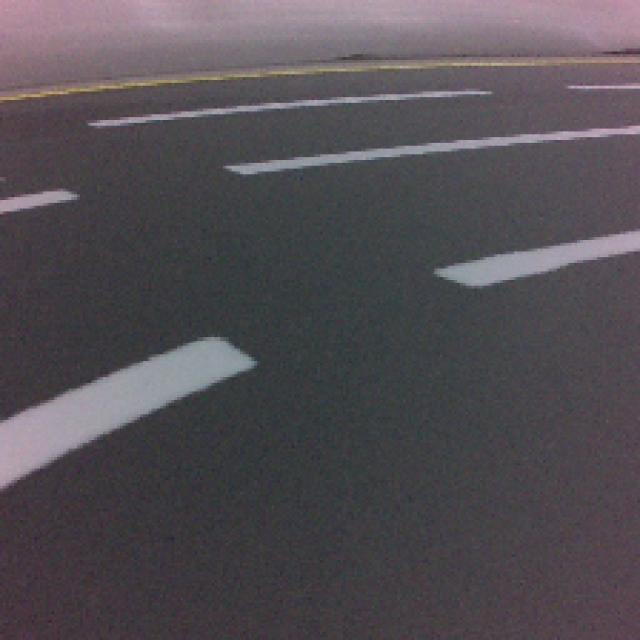Guard rail: (0, 335, 258, 484)
